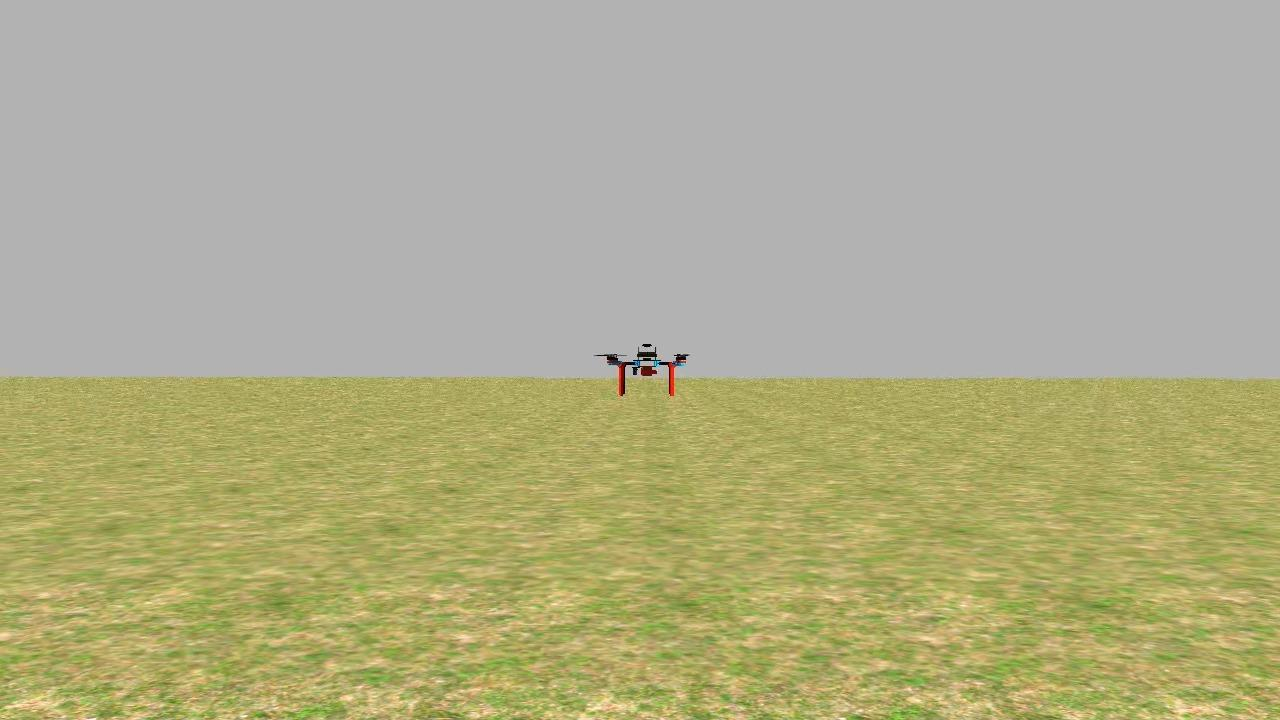UAV: (603, 329, 696, 399)
